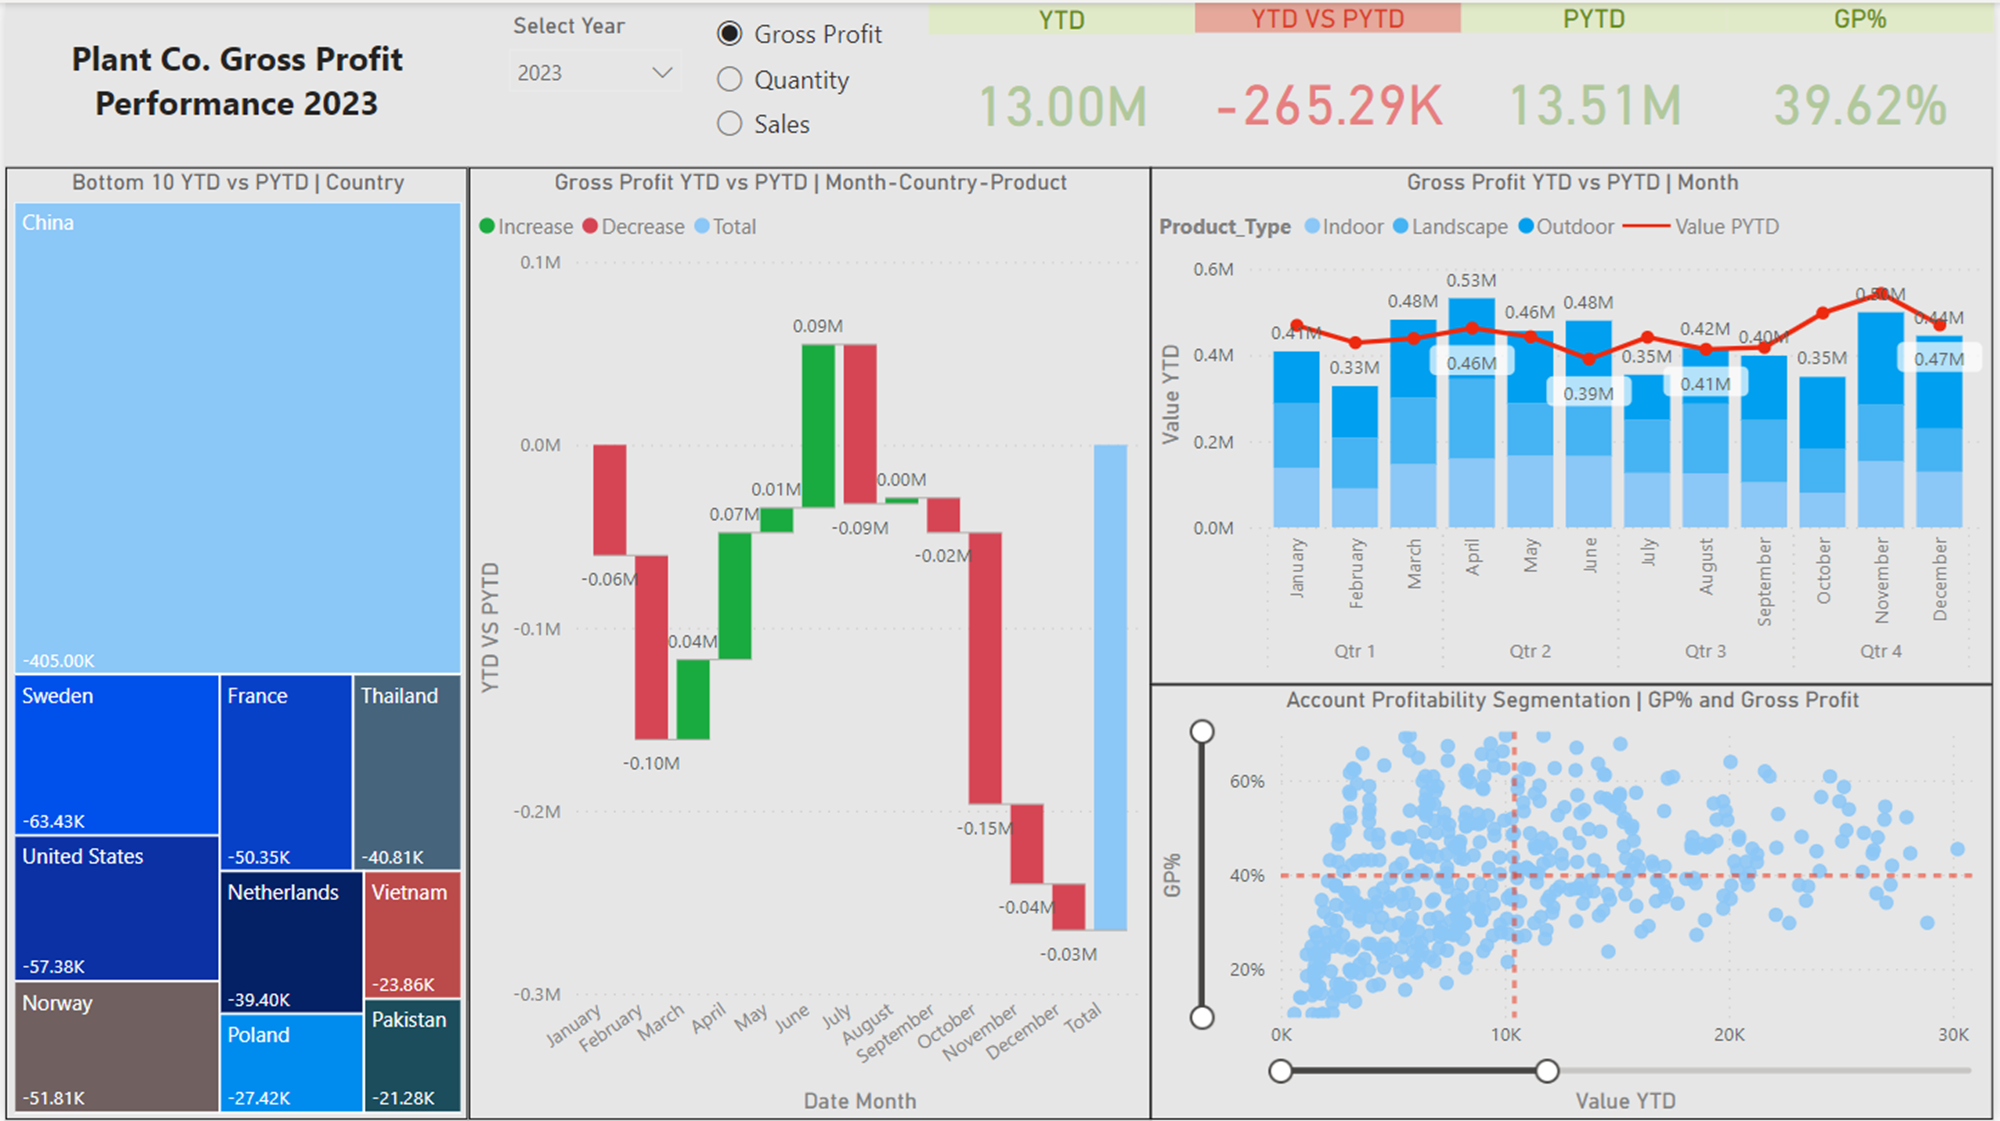

The dashboard page shown, as its layout file describes it:
{"tool":"powerbi","page":{"name":"Plant Co. Performance Report","canvas":[1280,720],"ordinal":0},"visuals":[{"type":"card","title":"YTD","fields":{"Values":["_Measures.YTD_Sales"]},"box":[594.6,1.2,171.3,104.9],"z":0},{"type":"card","title":"PYTD","fields":{"Values":["_Measures.PYTD_Sales"]},"box":[937.1,0,171.3,106.1],"z":1000},{"type":"card","title":"YTD VS PYTD","fields":{"Values":["_Measures.YTD VS PYTD"]},"box":[765.8,0,171.3,106.1],"z":2000},{"type":"slicer","fields":{"Values":["Slc_Values.Values"]},"box":[445,0,149.5,106.1],"z":4000},{"type":"slicer","fields":{"Values":["Dim_Date.Date.Variation.Date Hierarchy.Year"]},"box":[313.6,1.2,131.5,74.8],"z":5000},{"type":"treemap","title":"Bottom 10 YTD vs PYTD | Country","fields":{"Group":["Dim_Account.country"],"Values":["_Measures.YTD VS PYTD"]},"box":[0,106.1,297.9,612.7],"z":6000},{"type":"waterfallChart","fields":{"Y":["_Measures.YTD VS PYTD"],"Category":["Dim_Date.Date.Variation.Date Hierarchy.Month","Dim_Account.country","Dim_Product.Product_Type","Dim_Product.Product_Name"]},"box":[297.9,106.1,439,612.7],"z":7000},{"type":"lineStackedColumnComboChart","fields":{"Y":["_Measures.S_YTD"],"Category":["Dim_Date.Date.Variation.Date Hierarchy.Quarter","Dim_Date.Date.Variation.Date Hierarchy.Month"],"Y2":["_Measures.S_PYTD"],"Series":["Dim_Product.Product_Type"]},"box":[736.9,106.1,542.7,332.9],"z":8000},{"type":"card","title":"GP%","fields":{"Values":["_Measures.GP%"]},"box":[1108.3,0,171.3,106.1],"z":8001},{"type":"scatterChart","fields":{"Y":["_Measures.GP%"],"X":["_Measures.S_YTD"],"Category":["Dim_Account.Account"]},"box":[736.9,439,542.7,279.8],"z":8002},{"type":"clusteredColumnChart","box":[0,20.5,297.9,66.3],"z":8003}]}

Visuals, with their boxes in screenshot pixels (x1, y1, x2, y2), scaled from the page's 1280x720 canvas onto the 2000x1121 screenshot:
"YTD" card: [left=929, top=2, right=1197, bottom=165]
"PYTD" card: [left=1464, top=0, right=1732, bottom=165]
"YTD VS PYTD" card: [left=1197, top=0, right=1464, bottom=165]
slicer - Slc_Values.Values: [left=695, top=0, right=929, bottom=165]
slicer - Dim_Date.Date.Variation.Date Hierarchy.Year: [left=490, top=2, right=695, bottom=118]
"Bottom 10 YTD vs PYTD | Country" treemap: [left=0, top=165, right=465, bottom=1119]
waterfallChart - _Measures.YTD VS PYTD x Dim_Date.Date.Variation.Date Hierarchy.Month: [left=465, top=165, right=1151, bottom=1119]
lineStackedColumnComboChart - _Measures.S_YTD x Dim_Date.Date.Variation.Date Hierarchy.Quarter: [left=1151, top=165, right=1999, bottom=683]
"GP%" card: [left=1732, top=0, right=1999, bottom=165]
scatterChart - _Measures.GP% x _Measures.S_YTD: [left=1151, top=683, right=1999, bottom=1119]
clusteredColumnChart: [left=0, top=32, right=465, bottom=135]
